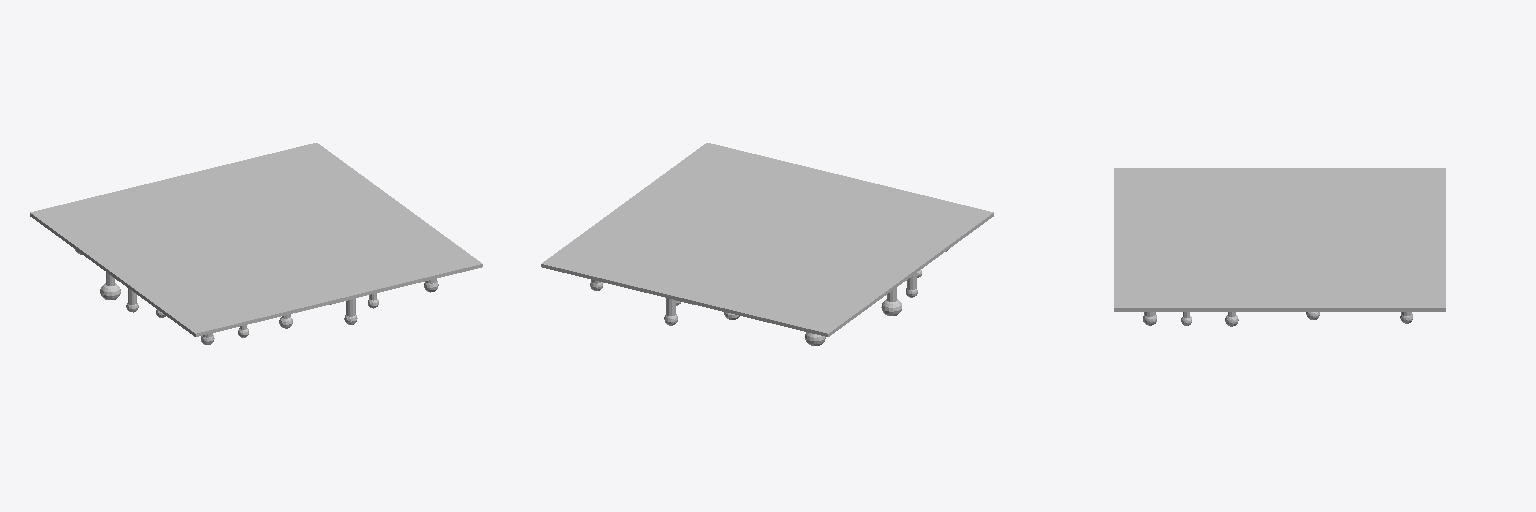
File: Partparker.obj
The picture shows the model from 3 angles: view 1: azimuth 30°, elevation 25°; view 2: azimuth 150°, elevation 25°; view 3: azimuth 270°, elevation 25°; orthographic projection.
Visible parts, largest first — view 1: Solid1; view 2: Solid1; view 3: Solid1.
Part boxes in pixels (bbox=[...]): Solid1: bbox=[30, 143, 482, 344]; Solid1: bbox=[541, 143, 993, 345]; Solid1: bbox=[1114, 168, 1445, 326].
Size of the model in its own units: 85.16 by 10.07 by 85.